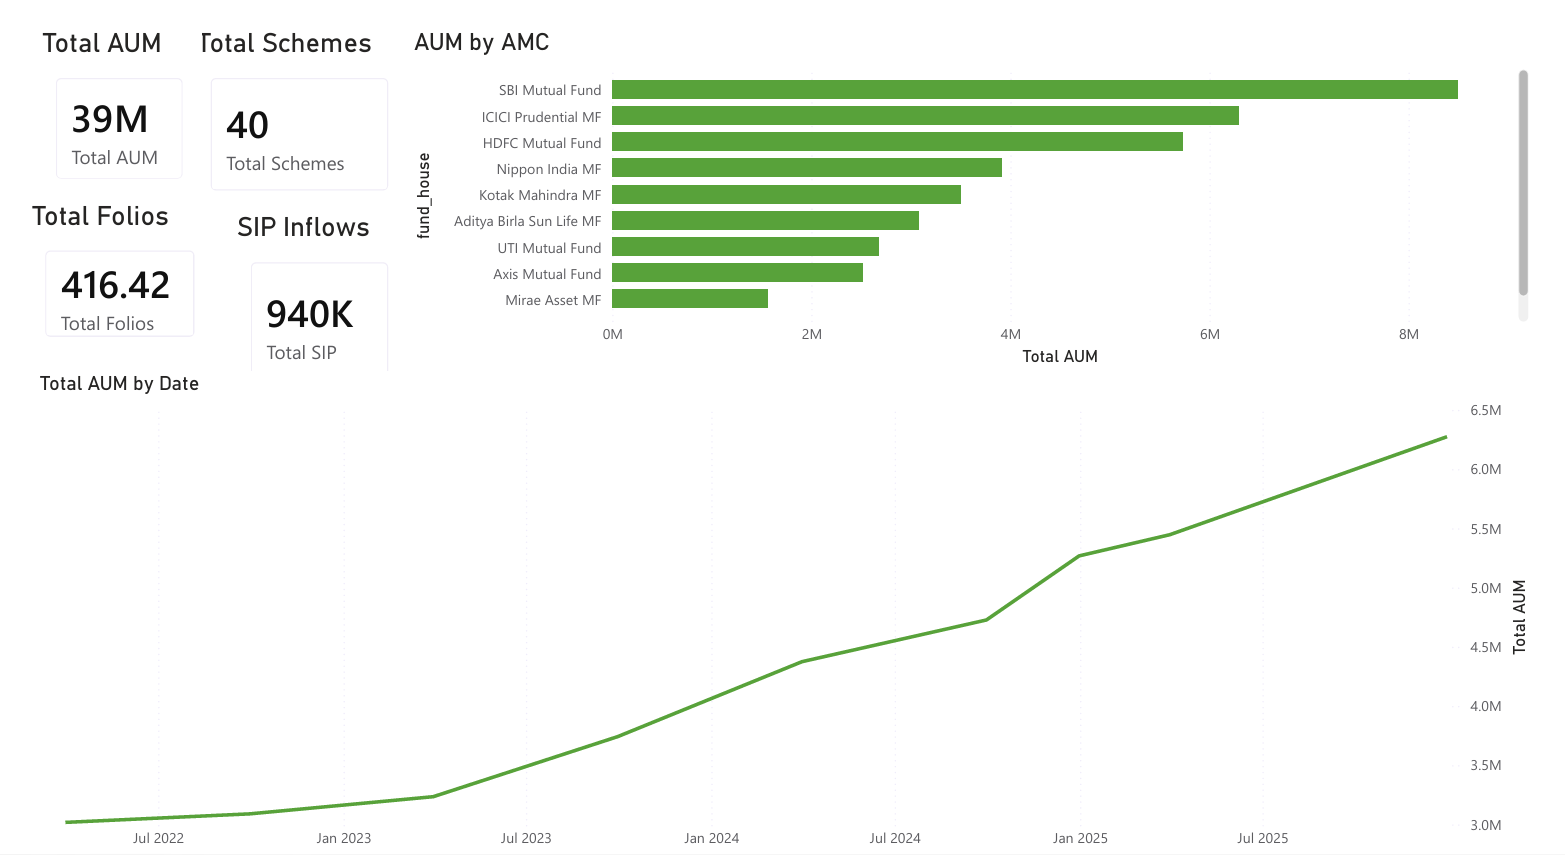

The page's visual inventory and layout, read from the dashboard file:
{"tool":"powerbi","page":{"name":"Industry Overview","canvas":[1280,720],"ordinal":0},"visuals":[{"type":"cardVisual","title":"SIP Inflows","fields":{"Data":["04_monthly_sip_inflows.Total SIP"]},"box":[174.3,155.7,150,164.3],"z":0},{"type":"cardVisual","title":"Total Folios","fields":{"Data":["06_industry_folio_count.Total Folios"]},"box":[0,145.7,160,134.3],"z":1000},{"type":"cardVisual","title":"Total Schemes","fields":{"Data":["07_scheme_performance.Total Schemes"]},"box":[140,0,184.3,155.7],"z":2000},{"type":"cardVisual","title":"Total AUM","fields":{"Data":["03_aum_by_fund_house.Total AUM"]},"box":[8.6,0,141.4,145.7],"z":3000},{"type":"lineChart","fields":{"Category":["DateTable.Date"],"Y2":["03_aum_by_fund_house.Total AUM"]},"box":[7.1,291.4,1270,427.1],"z":4000},{"type":"clusteredBarChart","title":"AUM by AMC","fields":{"Category":["03_aum_by_fund_house.fund_house"],"Y":["03_aum_by_fund_house.Total AUM"]},"box":[324,0,953,292],"z":5000}]}

Visuals, with their boxes in screenshot pixels (x1, y1, x2, y2), scaled from the page's 1280x720 canvas onto the 1565x855 screenshot:
"SIP Inflows" cardVisual: rect(213, 185, 397, 380)
"Total Folios" cardVisual: rect(0, 173, 196, 332)
"Total Schemes" cardVisual: rect(171, 0, 397, 185)
"Total AUM" cardVisual: rect(11, 0, 183, 173)
lineChart - DateTable.Date x 03_aum_by_fund_house.Total AUM: rect(9, 346, 1561, 853)
"AUM by AMC" clusteredBarChart: rect(396, 0, 1561, 347)
